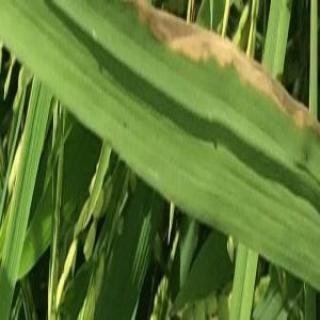Hawar-Daun: (119, 0, 317, 131)
